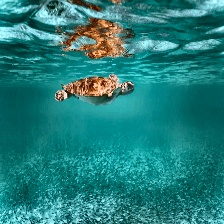seaturtle: (55, 74, 135, 105)
